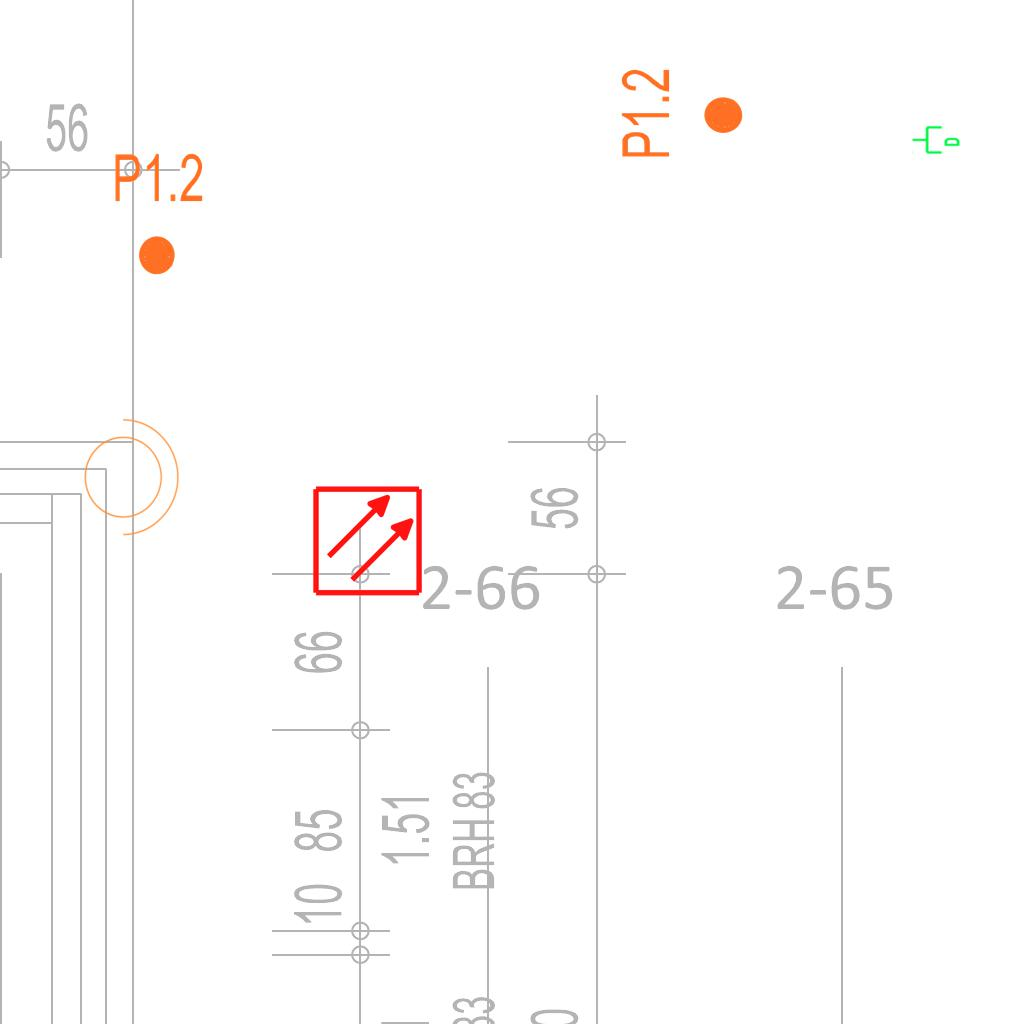Datenanschluss_einfach: (911, 122, 961, 156)
Downlight_LED_Einbauleuchten_Flur: (618, 67, 746, 160), (112, 150, 205, 278)
RMO_Rauchmelder_optischer: (311, 484, 424, 597)
Scheinwerfer_fuer_Alarmbeleuchtung: (72, 408, 184, 540)
